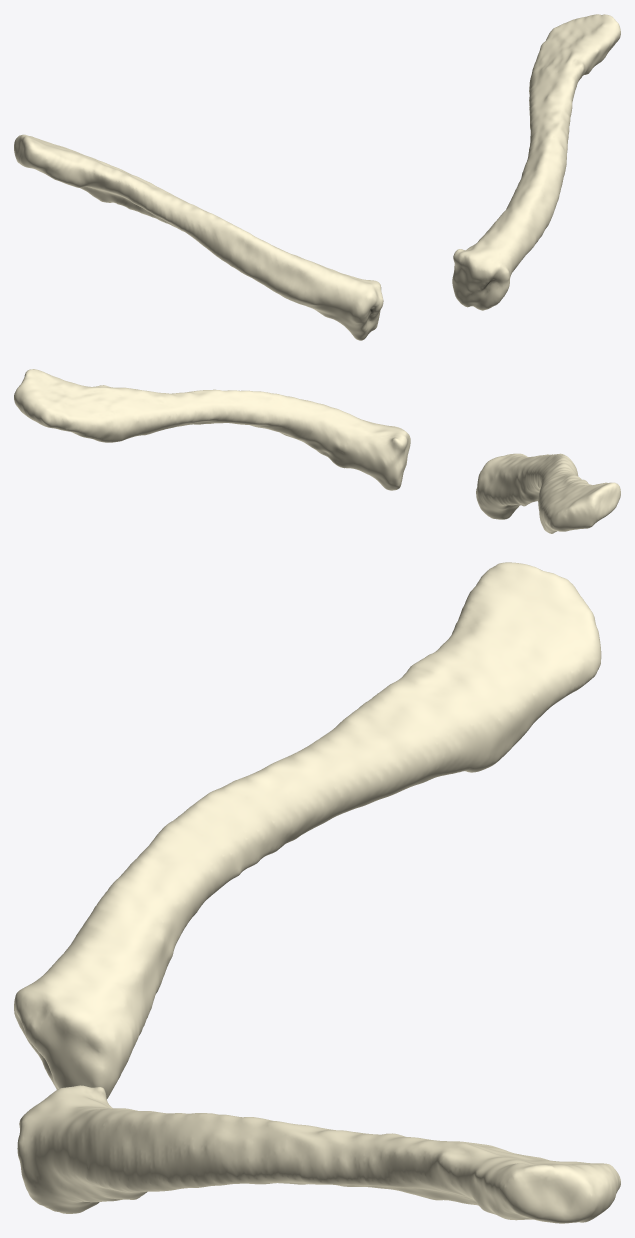
File: left_and_right_clavicles_18yo_male.glb
3 views of the same model, one above another, from view 1: azimuth 30°, elevation 25°; view 2: azimuth 150°, elevation 25°; view 3: azimuth 270°, elevation 25° (orthographic). The views are drawn at different scales.
Parts seen in each view (by area): view 1: Geode; view 2: Geode; view 3: Geode.
Part boxes in pixels (x1,y1,x2,y2): Geode: (14,14,620,340); Geode: (14,369,620,533); Geode: (14,562,620,1223).
Bounding box in the file's own units: 255 × 69.33 × 115.
